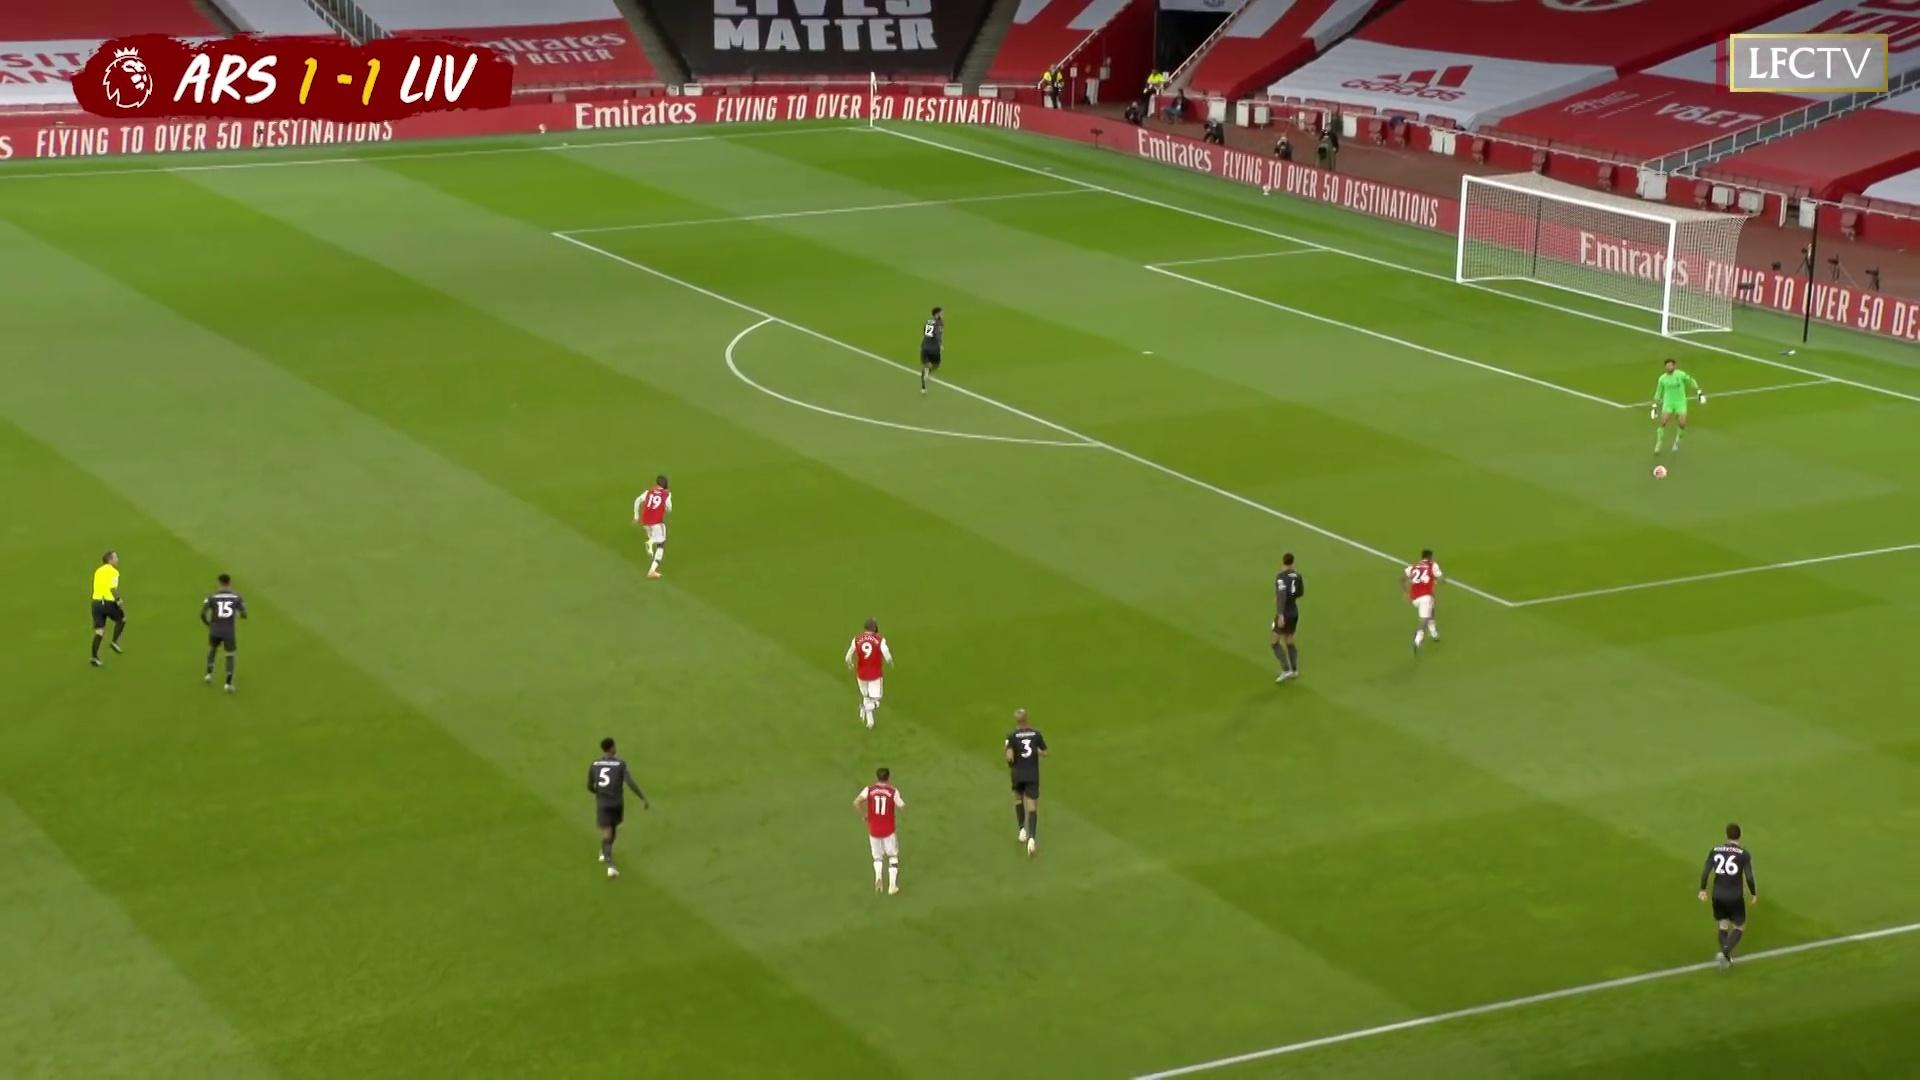ball: (1654, 464, 1669, 481)
